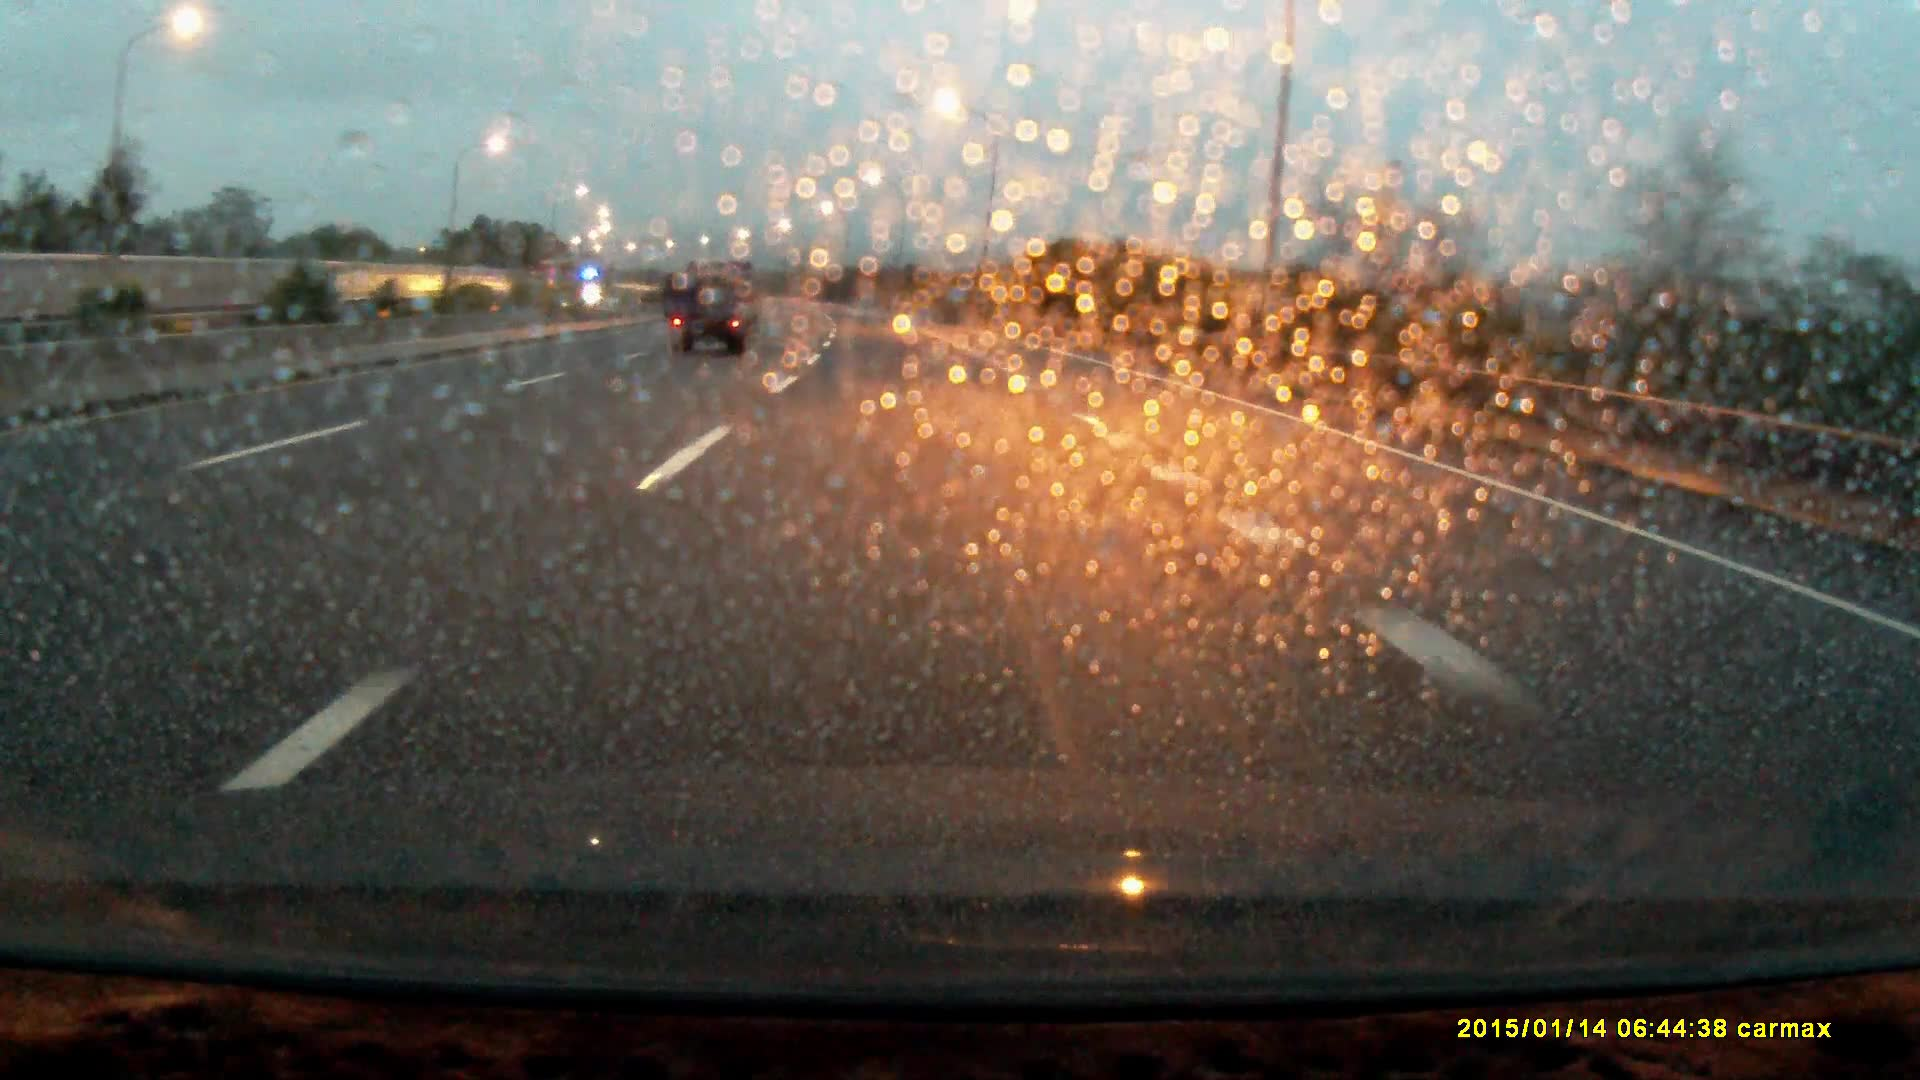vehicle: (671, 264, 760, 361)
